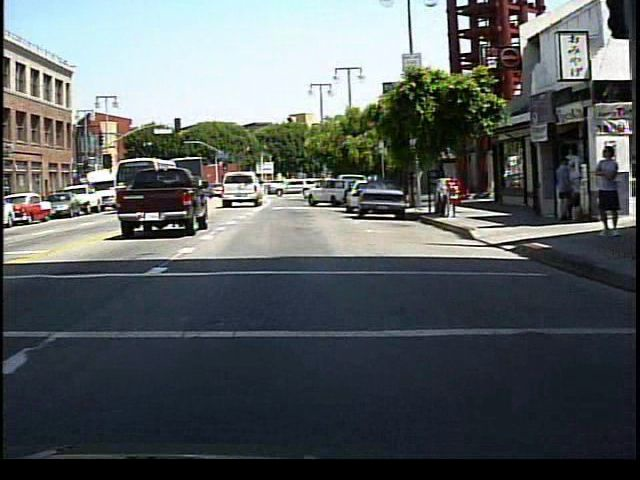person: (588, 141, 617, 240), (553, 153, 576, 224)
